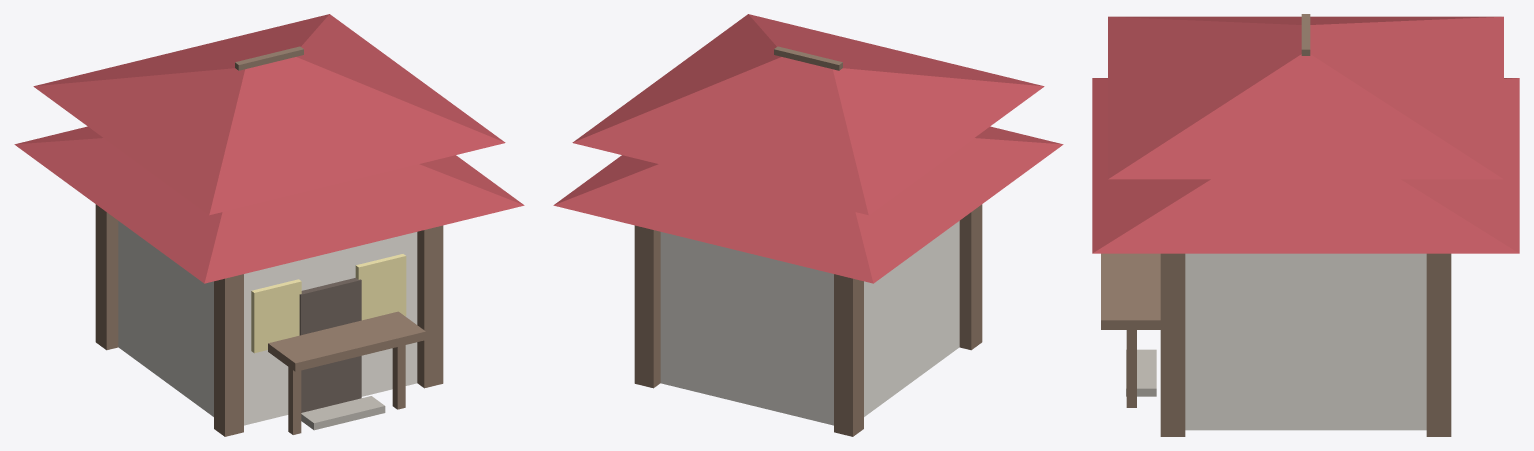
The model's file is residential_c.glb.
The picture shows the model from 3 angles, left to right: view 1: azimuth 30°, elevation 25°; view 2: azimuth 150°, elevation 25°; view 3: azimuth 270°, elevation 25°; orthographic projection. The views are drawn at different scales.
Size of the model in its own units: 4.72 by 4.33 by 4.86.
